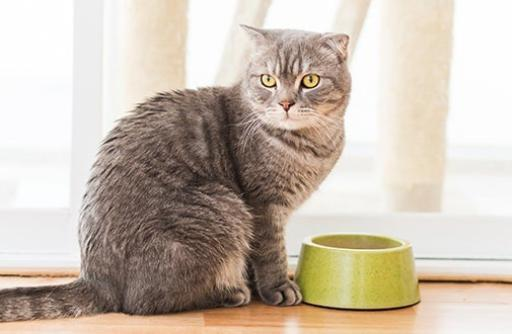cat_sitting: (1, 25, 351, 321)
